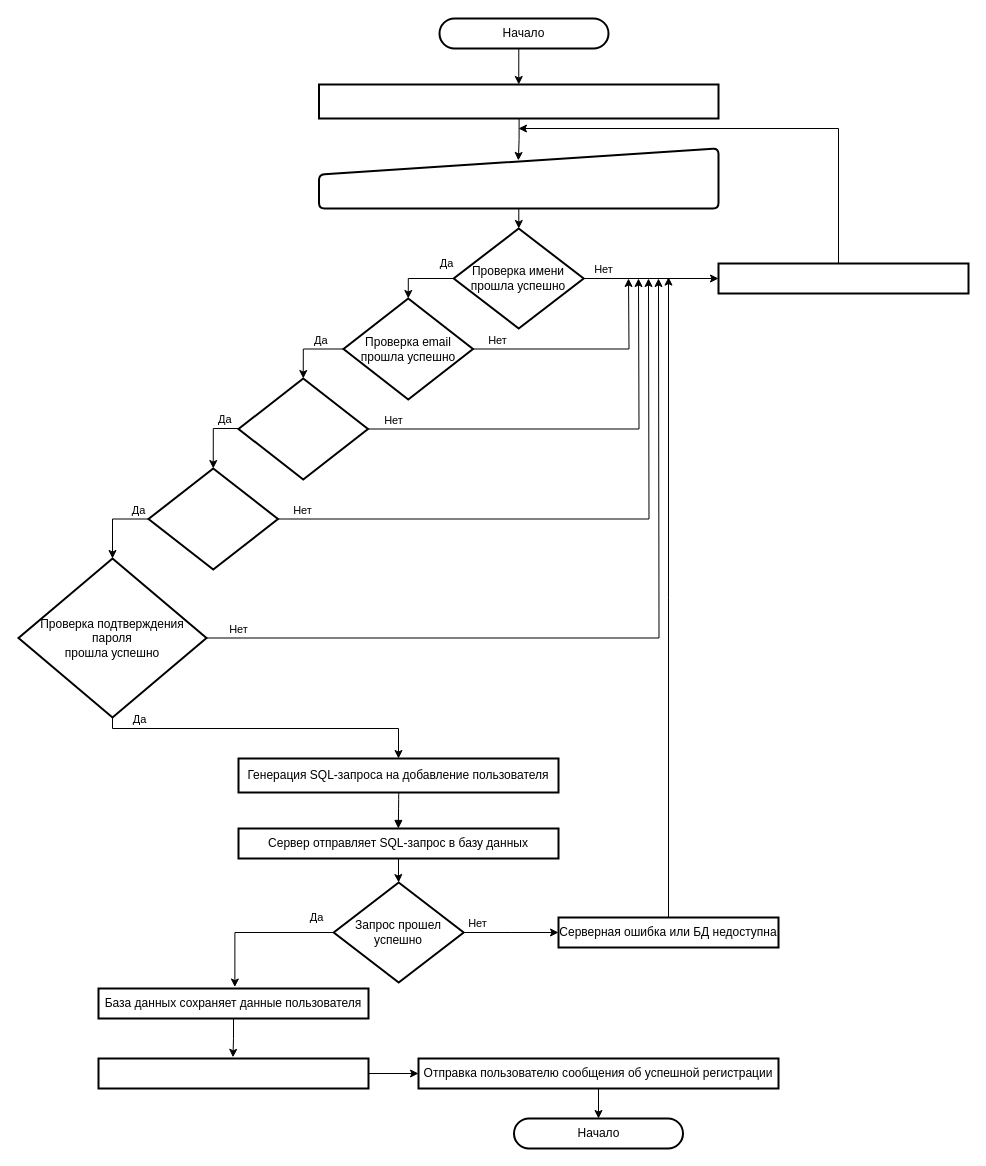
This 986x1166 diagram has some shape labels left out. The centre of each missing label's shape, as x and y in pixels:
"Показать сообщение об ошибке" belongs at (x=843, y=278).
"Пользователь вводит данные в форму регистрации" belongs at (x=518, y=178).
"Пользователь переходит на страницу регистрации" belongs at (x=518, y=101).
"Проверка email прошла" belongs at (x=302, y=428).
"Проверка пароля прошла успешно" belongs at (x=212, y=518).
"Сервер получает ответ от базы данных" belongs at (x=233, y=1073).
